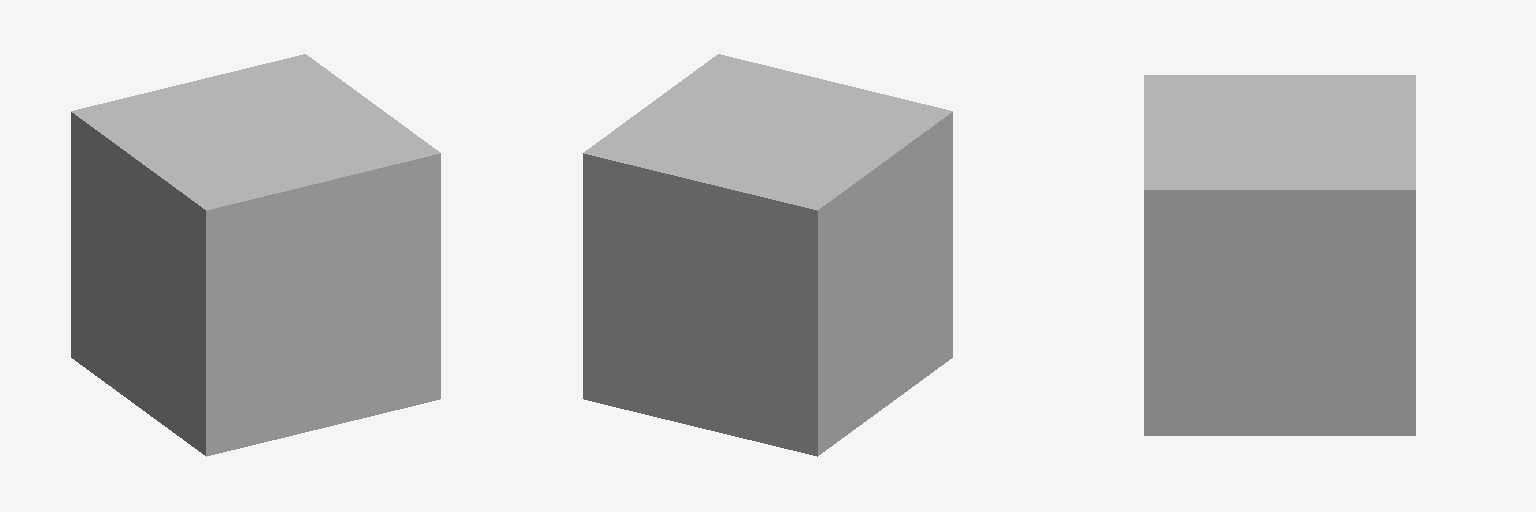
File: closed-boxes.obj
The picture shows the model from 3 angles: view 1: azimuth 30°, elevation 25°; view 2: azimuth 150°, elevation 25°; view 3: azimuth 270°, elevation 25°; orthographic projection.
Size of the model in its own units: 2 by 2.01 by 2.